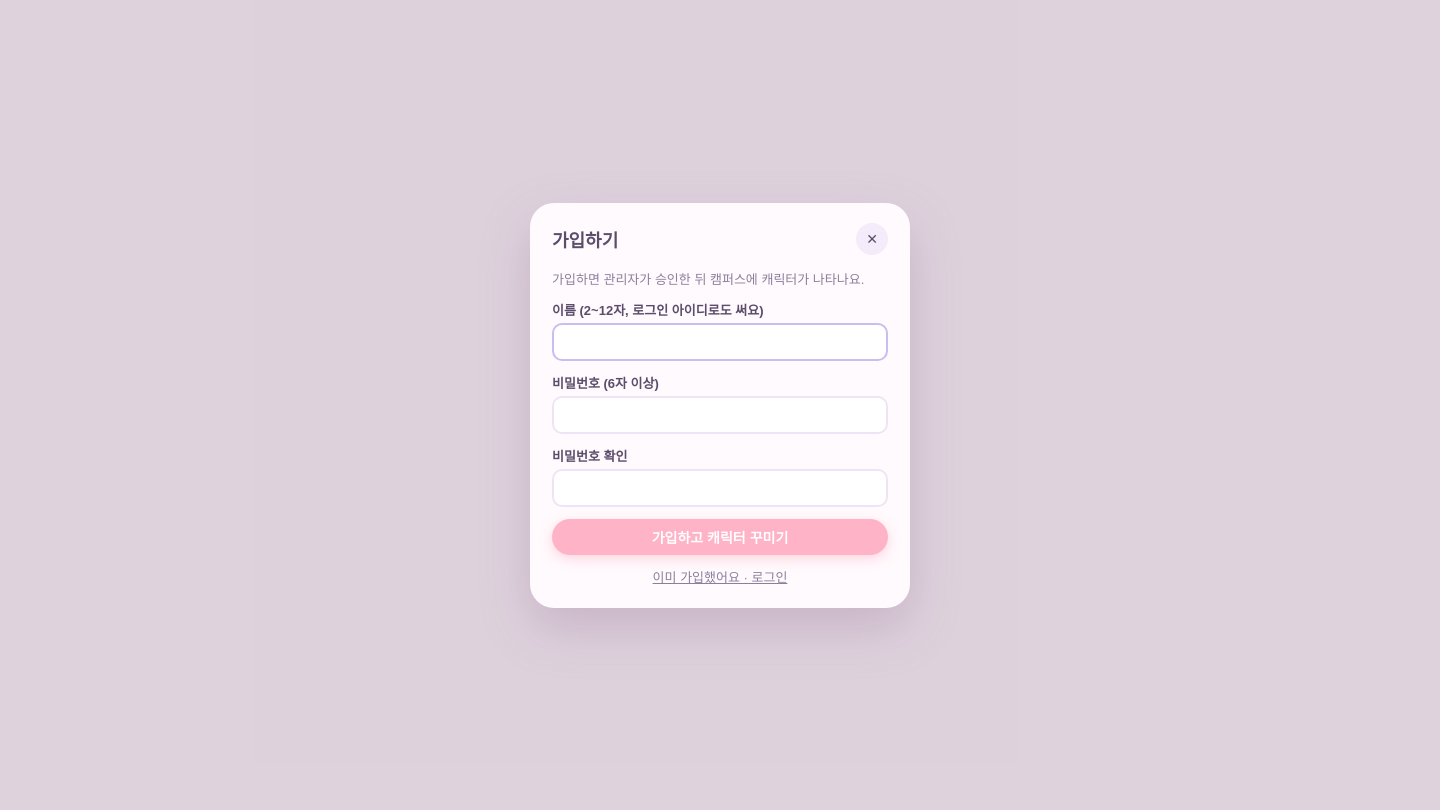
Test: SignupForm › 이미 있는 이름이면 한국어로 알려 준다
Type "철수" into the field labelled "이름 (2~12자, 로그인 아이디로도 써요)" at (720, 342), box [552, 322, 888, 360]
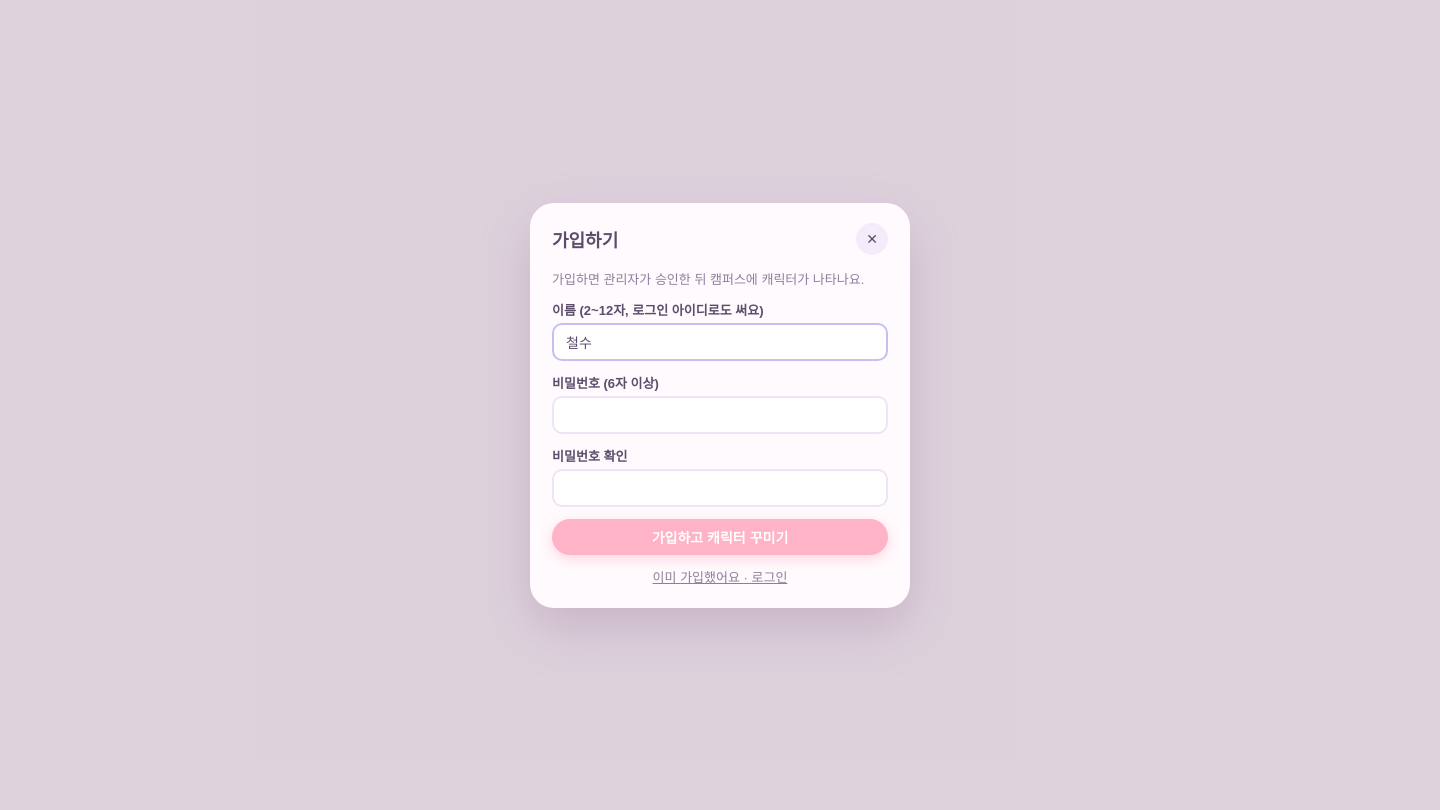
Type "123456" into the password field labelled "비밀번호 (6자 이상)" at (720, 414), box [552, 396, 888, 434]
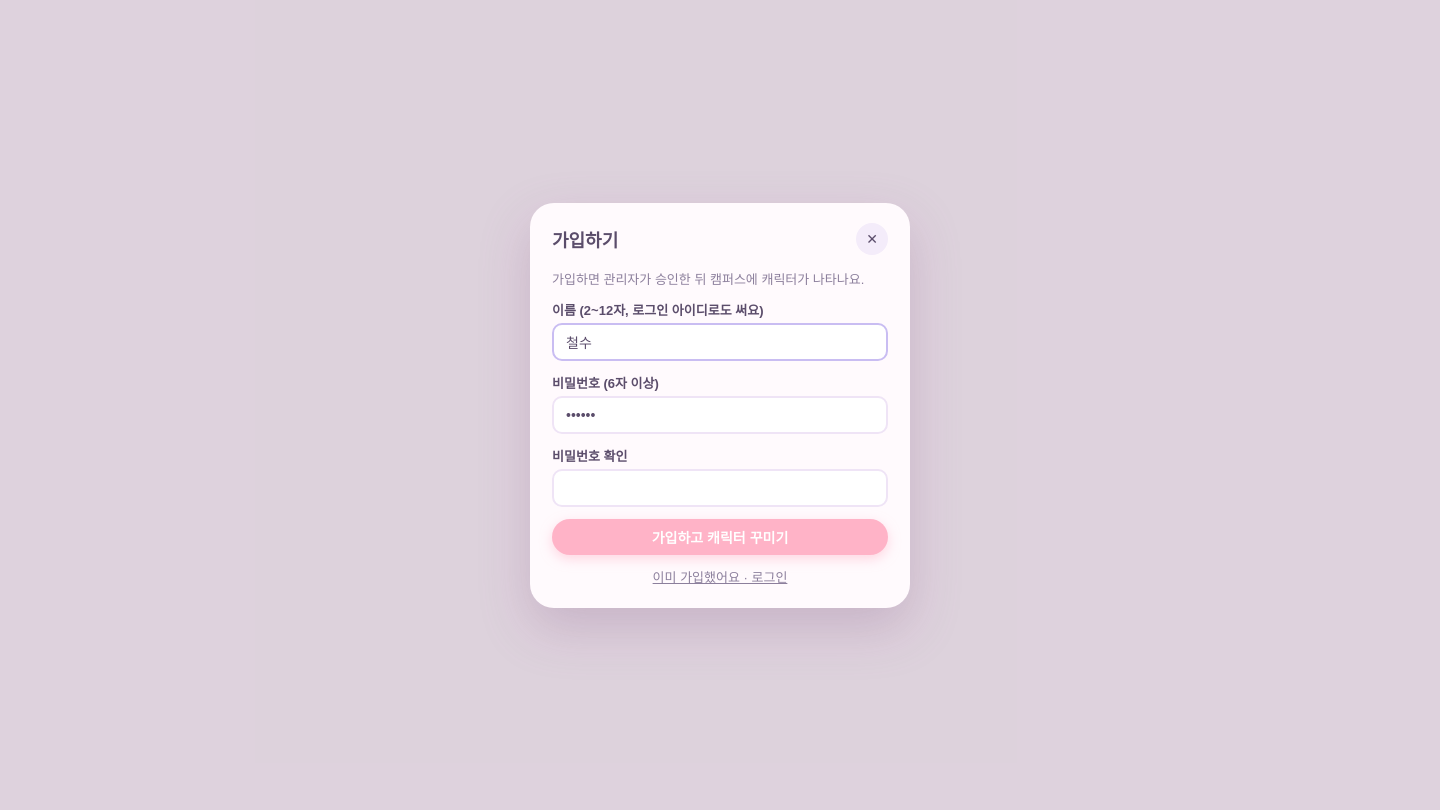
Type "123456" into the password field labelled "비밀번호 확인" at (720, 488), box [552, 468, 888, 506]
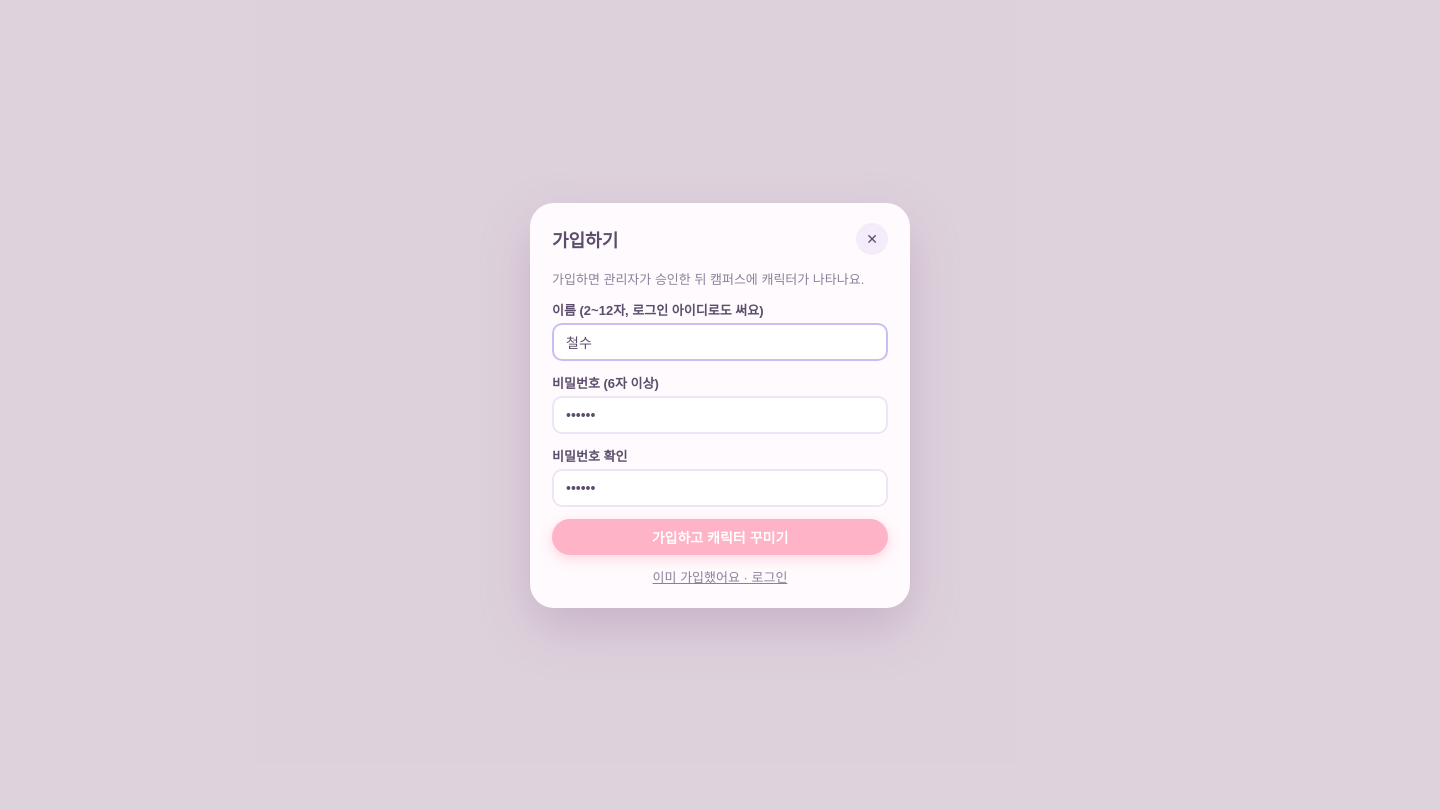
Click the button "가입하고 캐릭터 꾸미기" at (720, 536), box [552, 518, 888, 554]
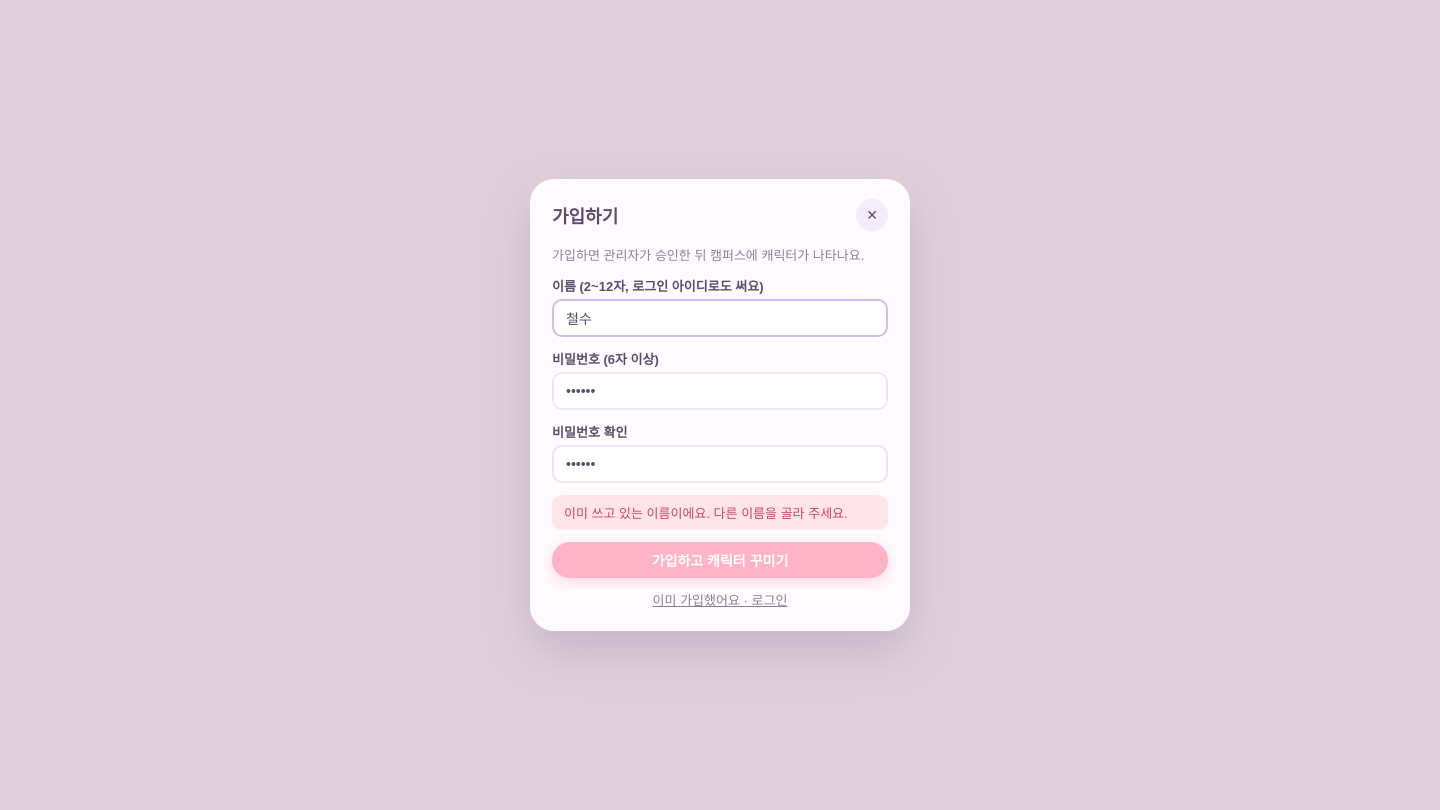
Check: the message shows "이미 쓰고 있는 이름", box [564, 506, 848, 521]
